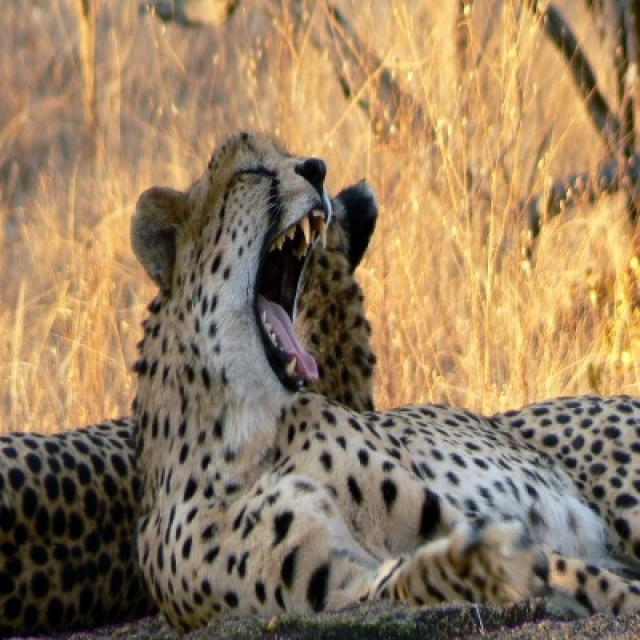Cheetah: (0, 133, 638, 638)
